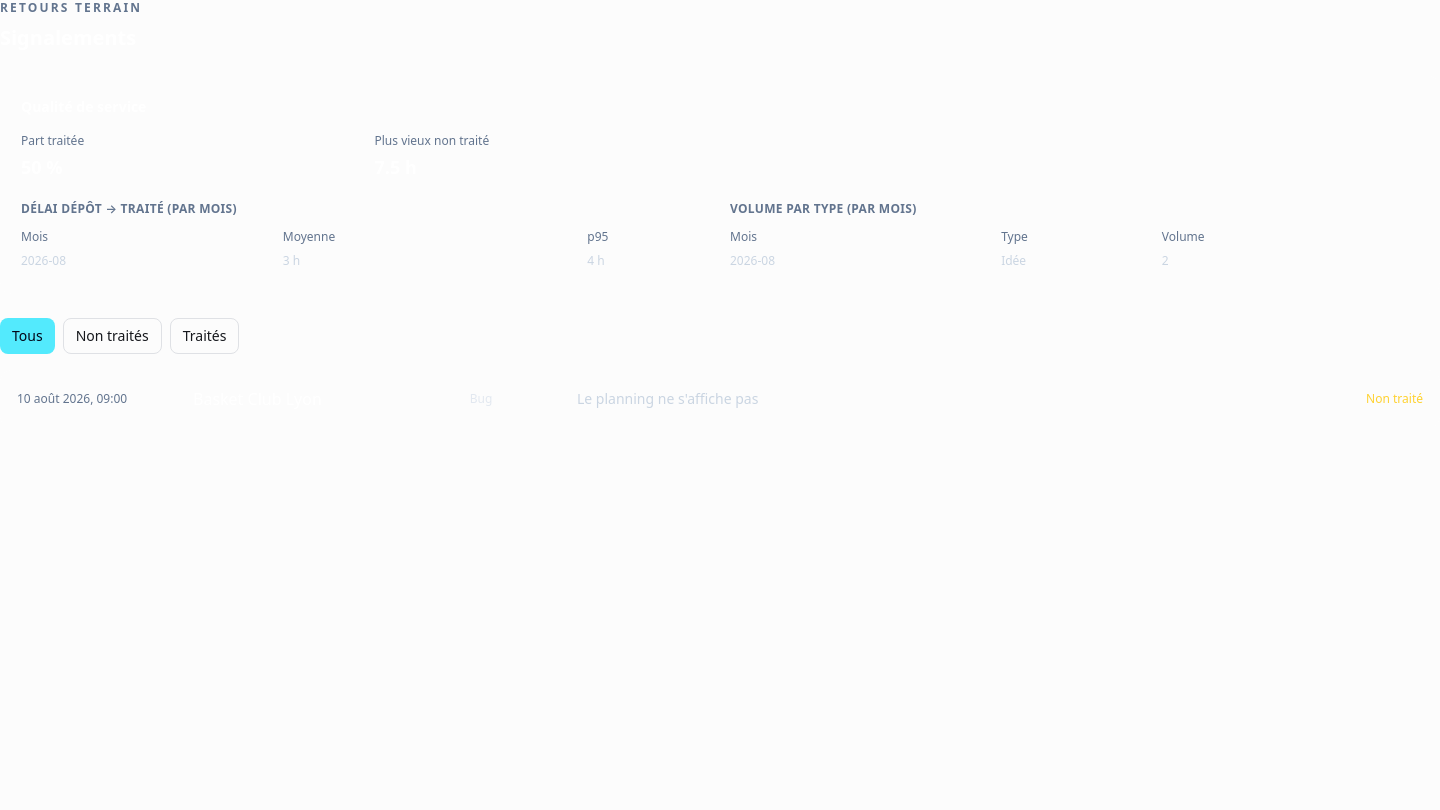
Test case: FeedbackSection › rend un 409 lisible sur Traiter
Click the button with aria-label "voir le signalement de basket club lyon": (720, 399) [1,371,1439,427]
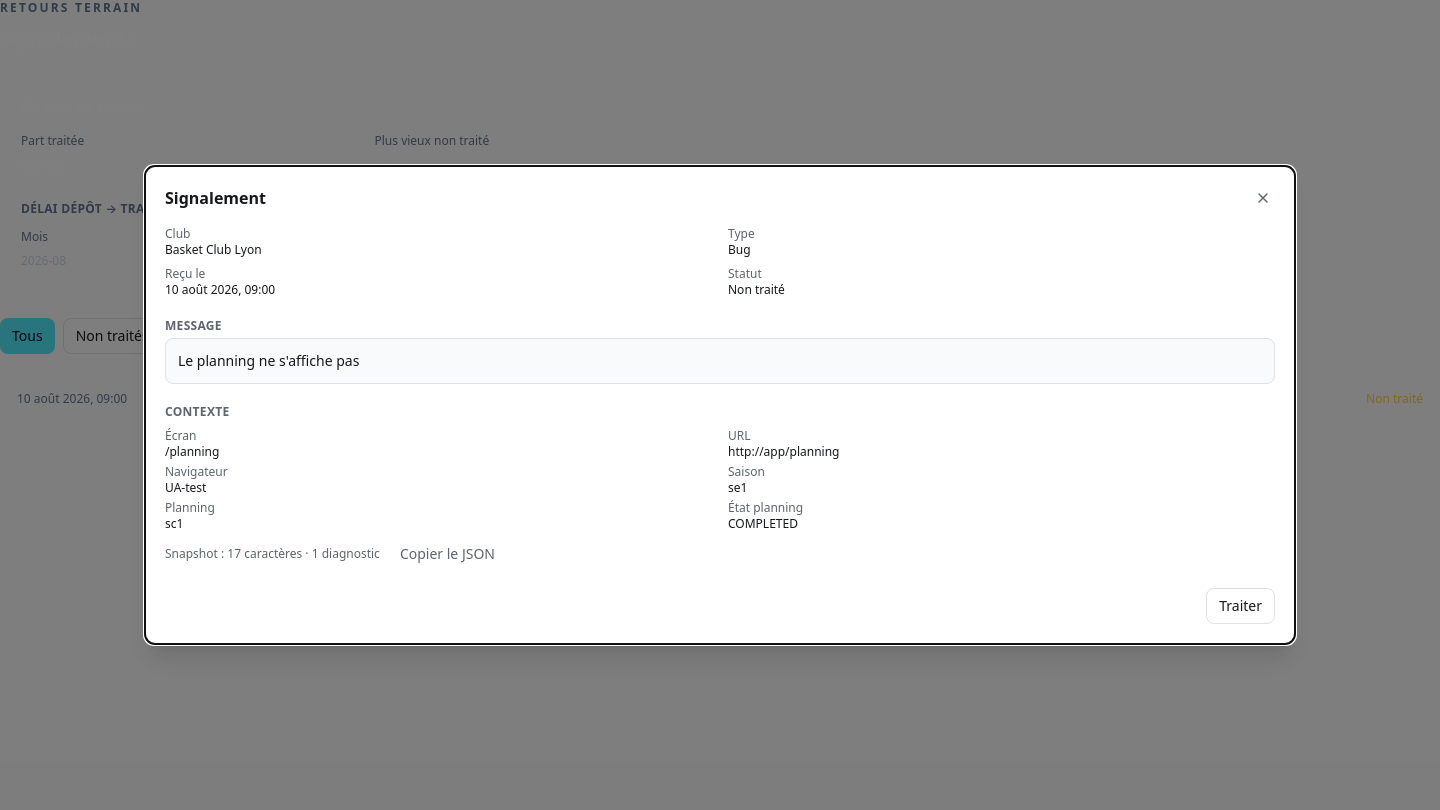
expect the dialog is shown: met, box [144,165,1296,645]
Click the button "Traiter": (1241, 606) [1206,588,1275,624]
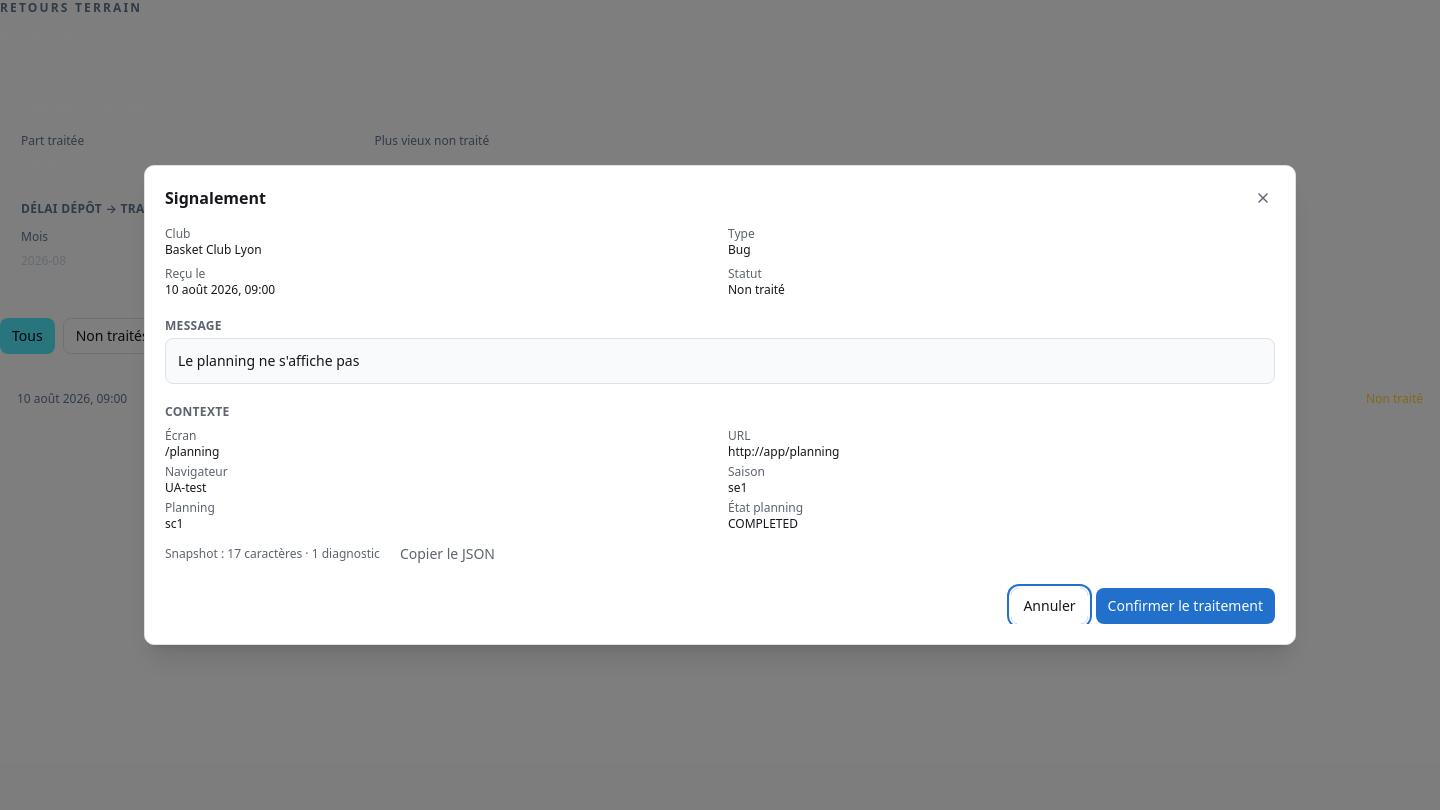
Click the button "Confirmer le traitement": (1185, 606) [1096,588,1275,624]
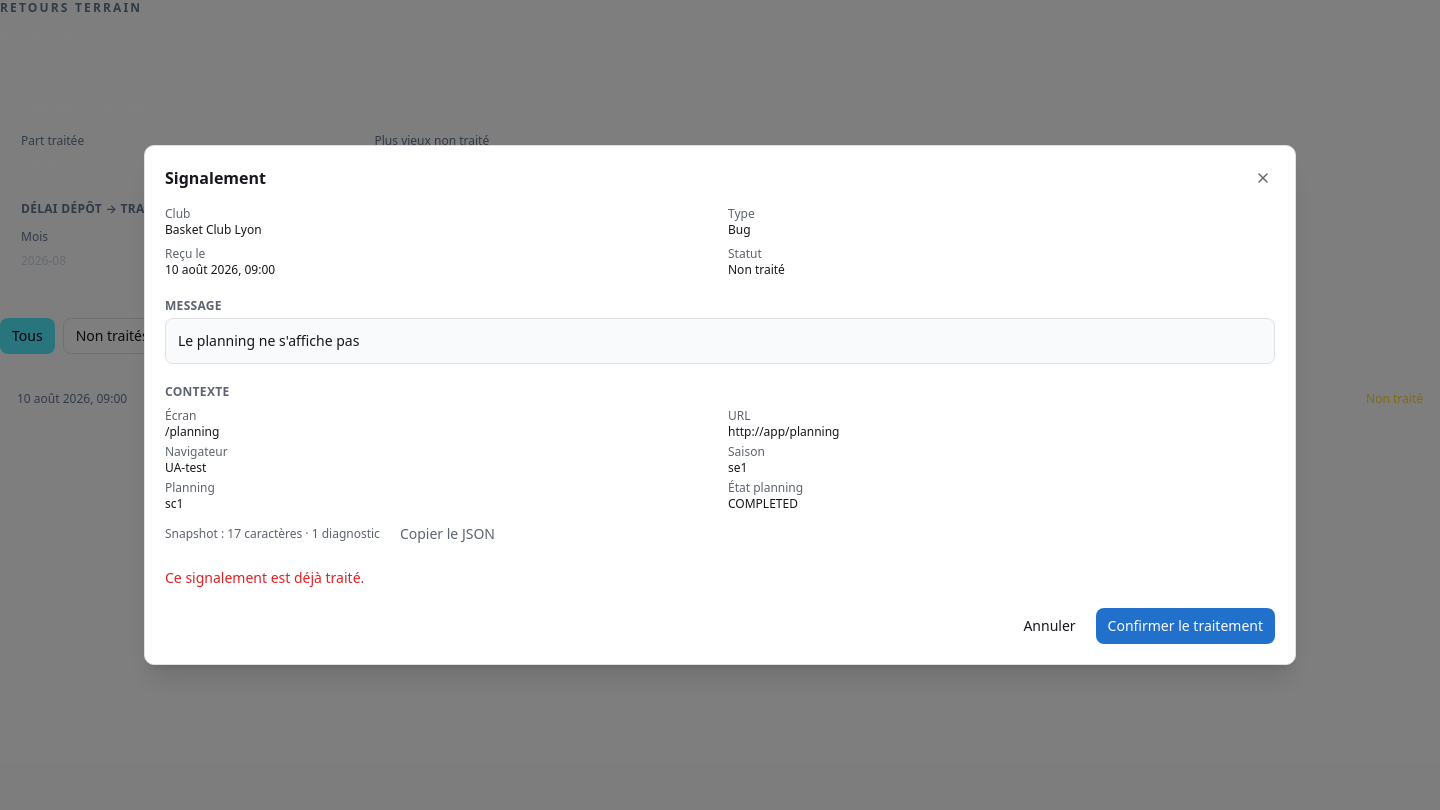
expect the text "Ce signalement est déjà traité." is shown: met, box [165,568,364,587]
